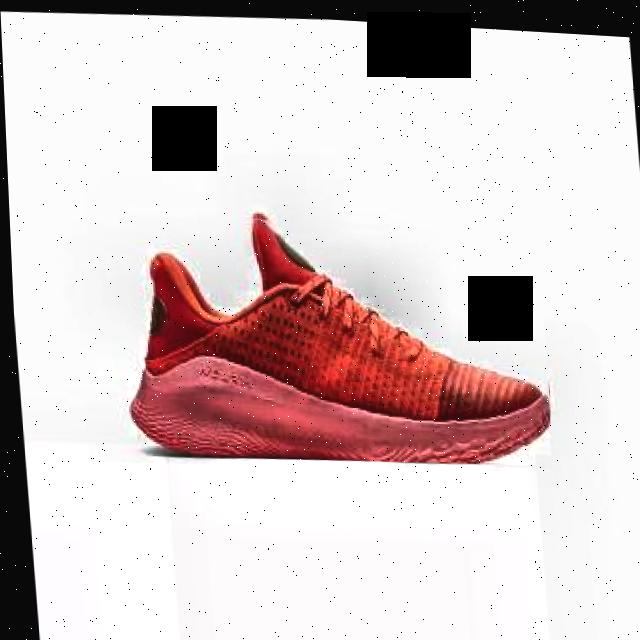shoe: (112, 192, 551, 473)
